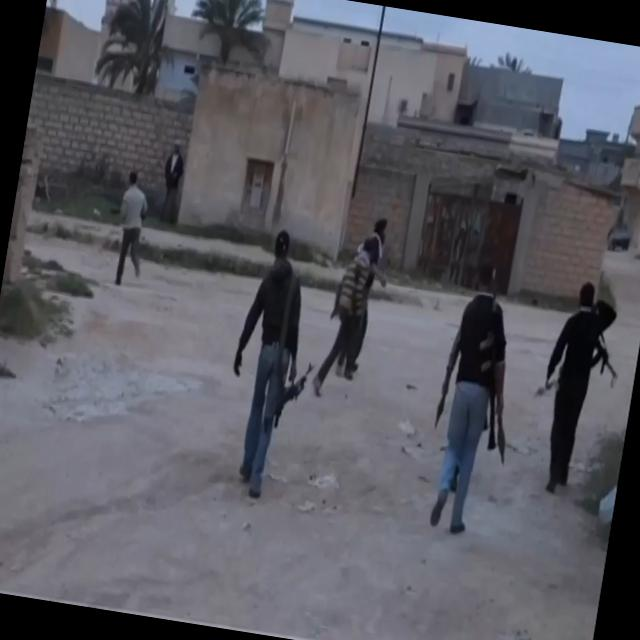long weapon: (270, 348, 324, 440), (578, 319, 616, 390)
